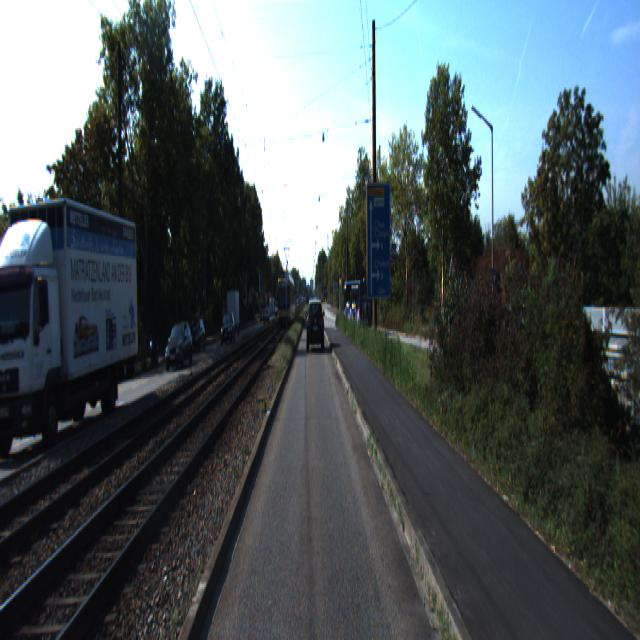Car: (0, 176, 140, 457), (164, 318, 194, 373), (344, 279, 374, 332), (307, 300, 324, 352), (226, 290, 240, 336), (220, 310, 236, 344)
